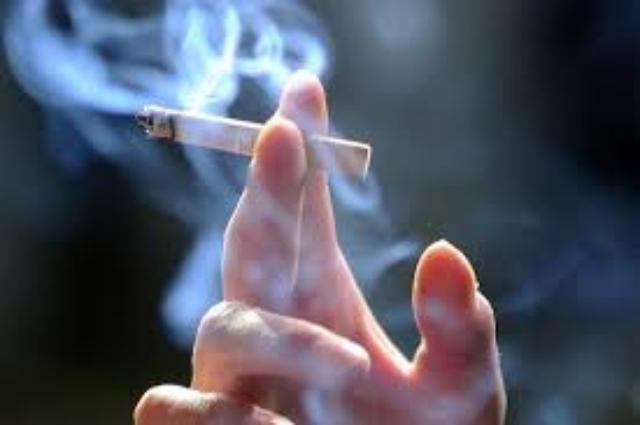Smoking: (136, 103, 372, 179)
